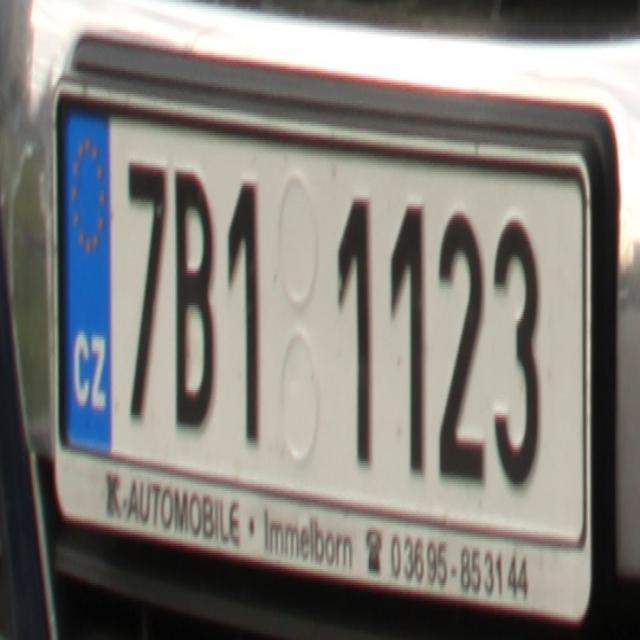1: (390, 183, 430, 478), (337, 190, 376, 468), (228, 170, 262, 448)
2: (438, 206, 488, 486)
3: (496, 209, 538, 491)
7: (120, 153, 168, 424)
B: (170, 158, 218, 438)
